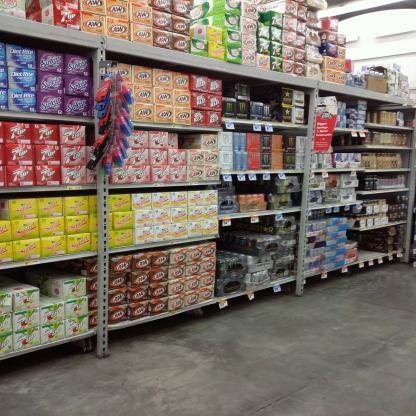Void: (40, 266, 58, 300), (359, 233, 384, 257), (253, 82, 278, 104), (239, 181, 274, 195), (223, 228, 240, 254), (6, 269, 27, 286), (68, 262, 88, 274), (180, 134, 198, 147), (226, 78, 236, 97), (87, 127, 96, 143), (347, 229, 357, 240)
